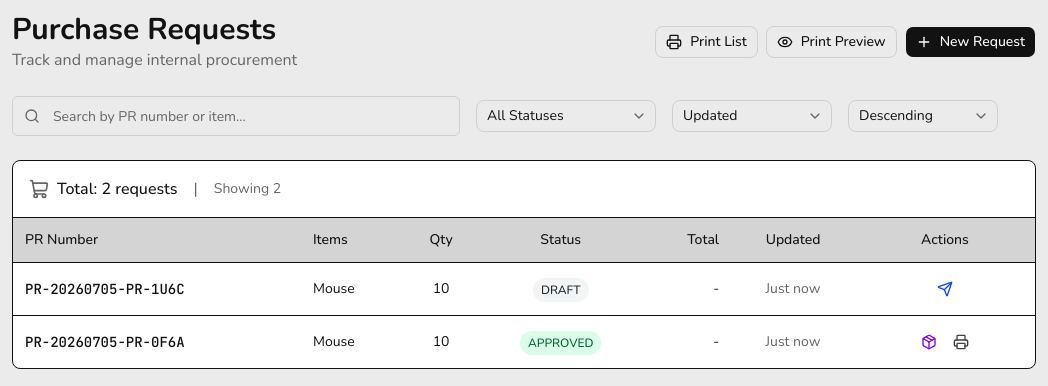
PurchaseRequestsClient › filters by status
Check: the text "Showing 2" is shown, box [214,179,281,199]
What coordinates should you click on to do the following:
click the dropdown named "filter by status"
I would click on:
 (566, 116)
Its box is [476,100,656,132].
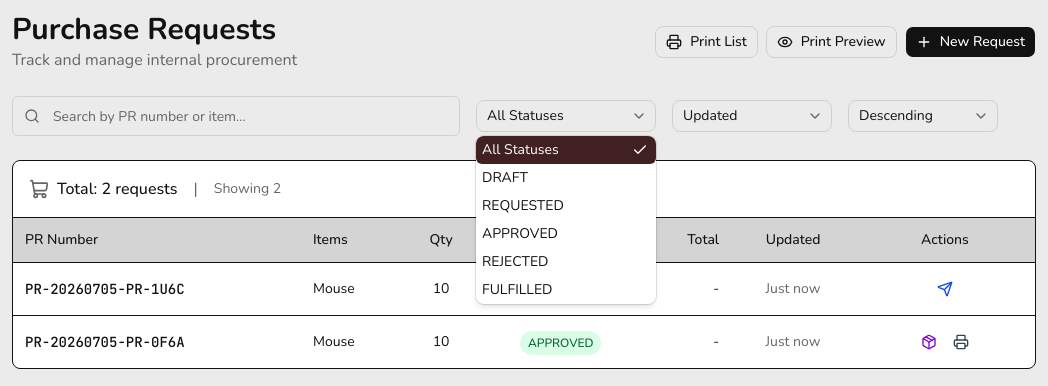
What coordinates should you click on to do the following:
click the option "APPROVED"
I would click on:
 (520, 234)
Its box is [482,224,558,243].
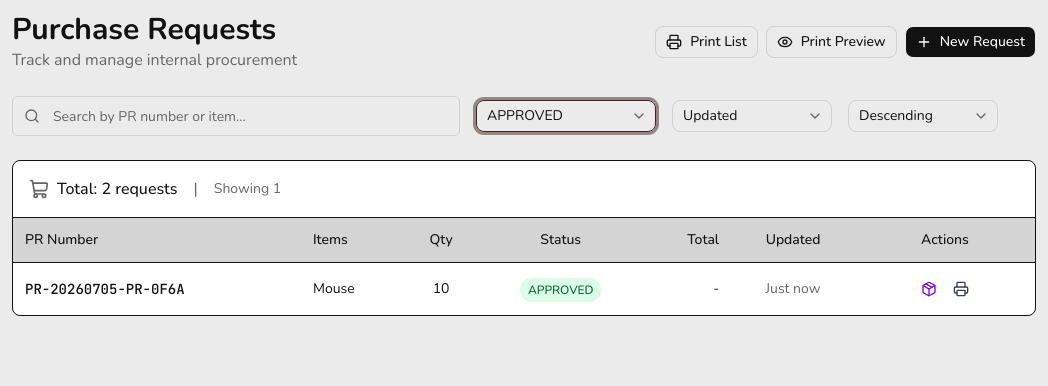
Check: the text "Showing 1" is shown, box [214,179,281,199]
